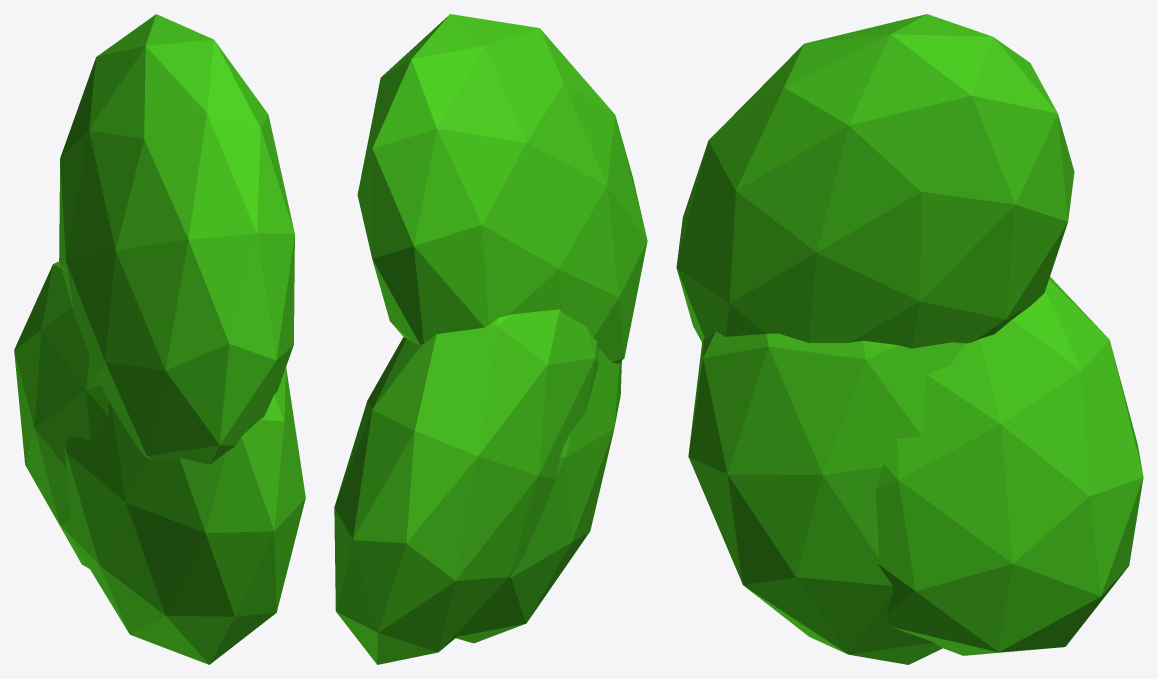
The model's file is Arbusto_2.fbx.
3 views of the same model, side by side, from view 1: azimuth 30°, elevation 25°; view 2: azimuth 150°, elevation 25°; view 3: azimuth 270°, elevation 25° (orthographic). The views are drawn at different scales.
Visible parts, largest first — view 1: Icosphere.009; view 2: Icosphere.009; view 3: Icosphere.009.
Part boxes in pixels (box(x1,y1,x2,y2)): Icosphere.009: box(14, 14, 305, 664); Icosphere.009: box(334, 14, 647, 664); Icosphere.009: box(676, 14, 1143, 664).
Bounding box in the file's own units: 37.86 × 118 × 77.
